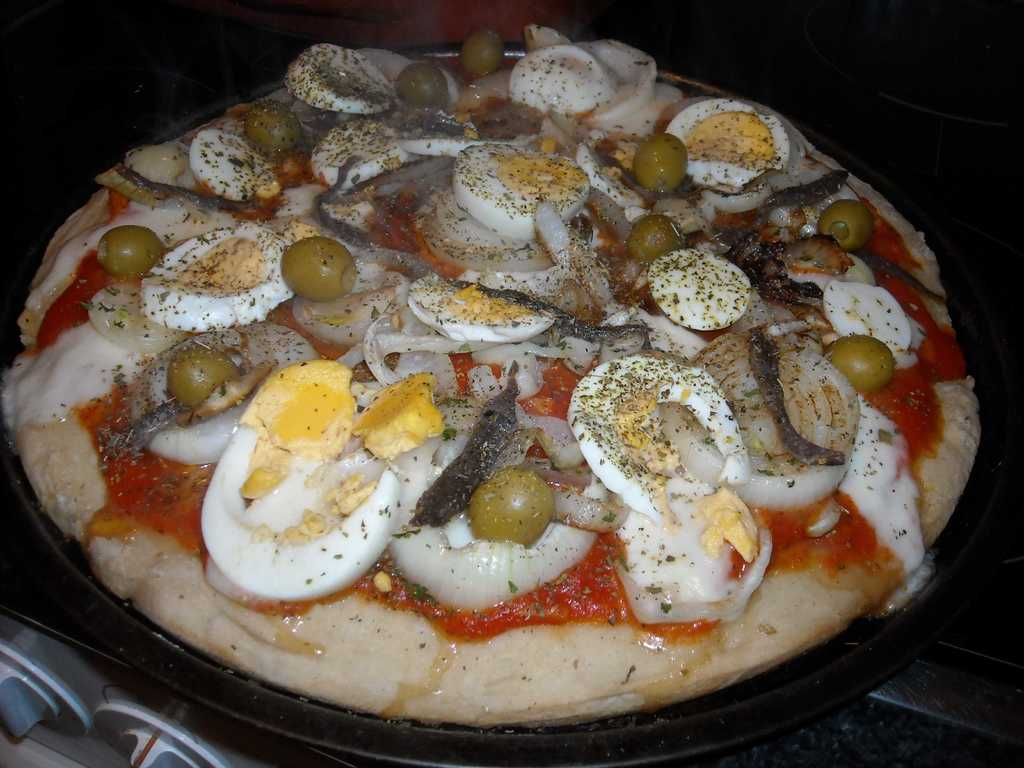Pizza: (48, 76, 950, 740)
